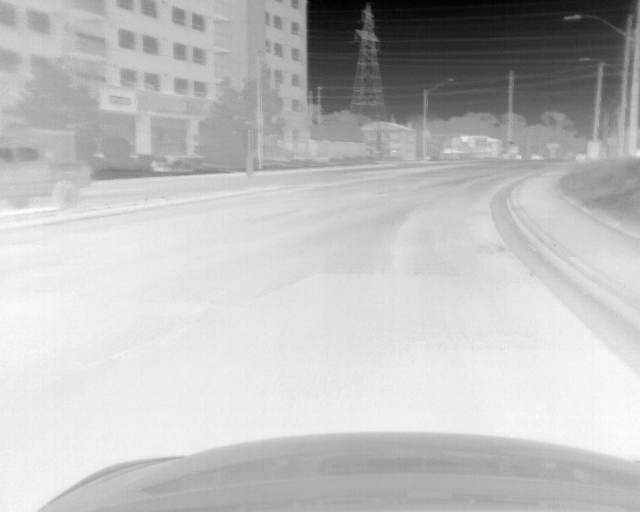car: (1, 141, 93, 210)
